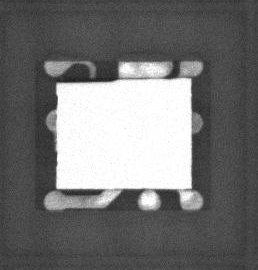DIE_BROKEN: (57, 78, 117, 84)
